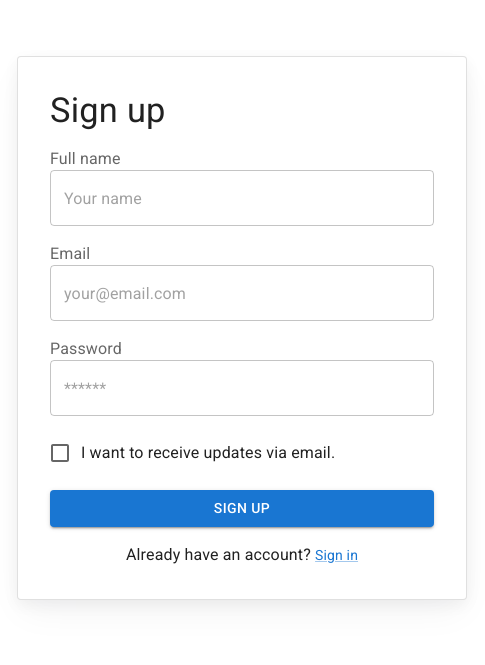
Test: AuthPage › shows error alert on failed signup
This screenshot has width=485, height=665.
Type "John Doe" into the field labelled "Full name". click: x=242, y=198
box: [50,170,434,226]
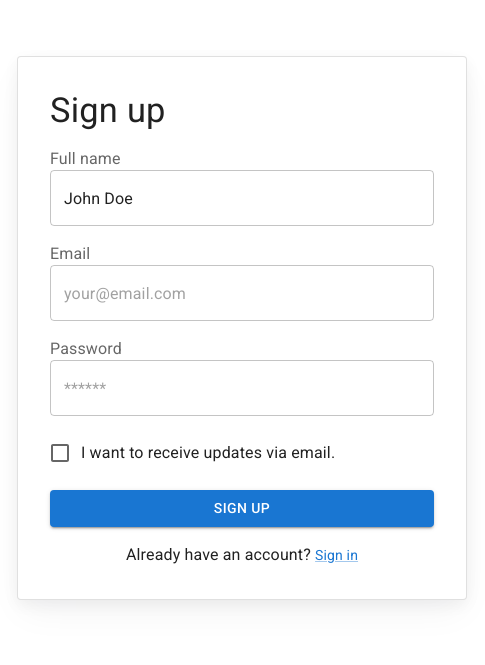
Type "test@example.com" into the field labelled "Email". click: x=242, y=294
box: [50,266,434,322]
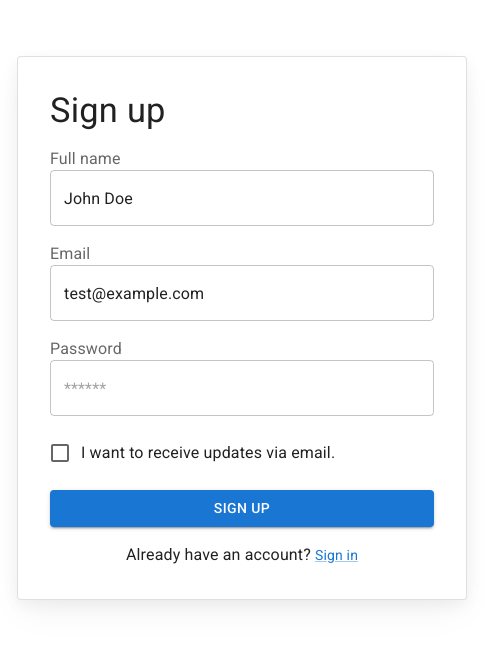
Type "password123" into the password field labelled "Password". click: x=242, y=388
box: [50,360,434,416]
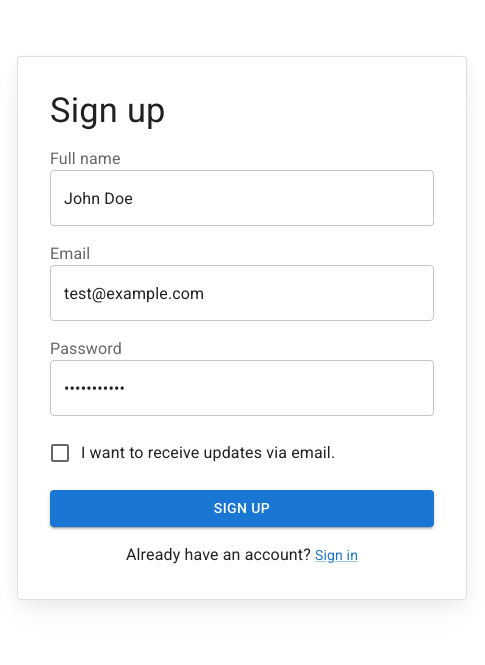
Click the button "Sign up". click: x=242, y=509
box: [50,490,434,527]
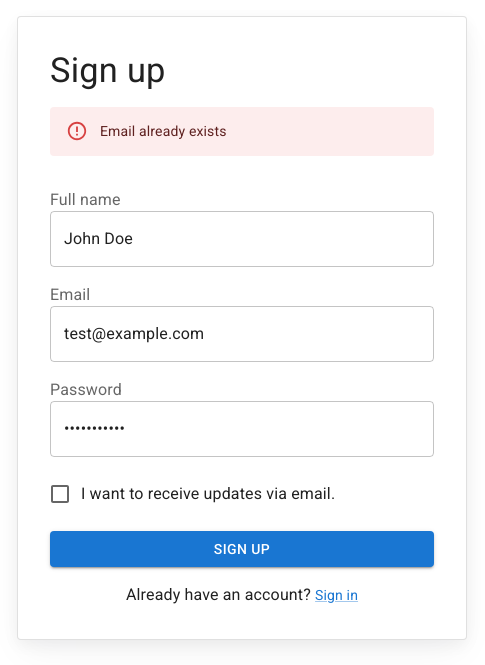
Expected: the text "Email already exists" is shown, [100,124,227,140]
